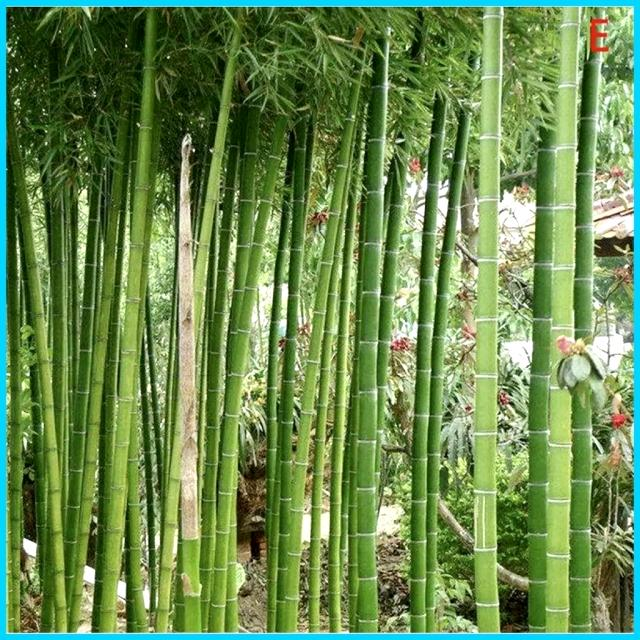Running: (9, 7, 632, 634)
